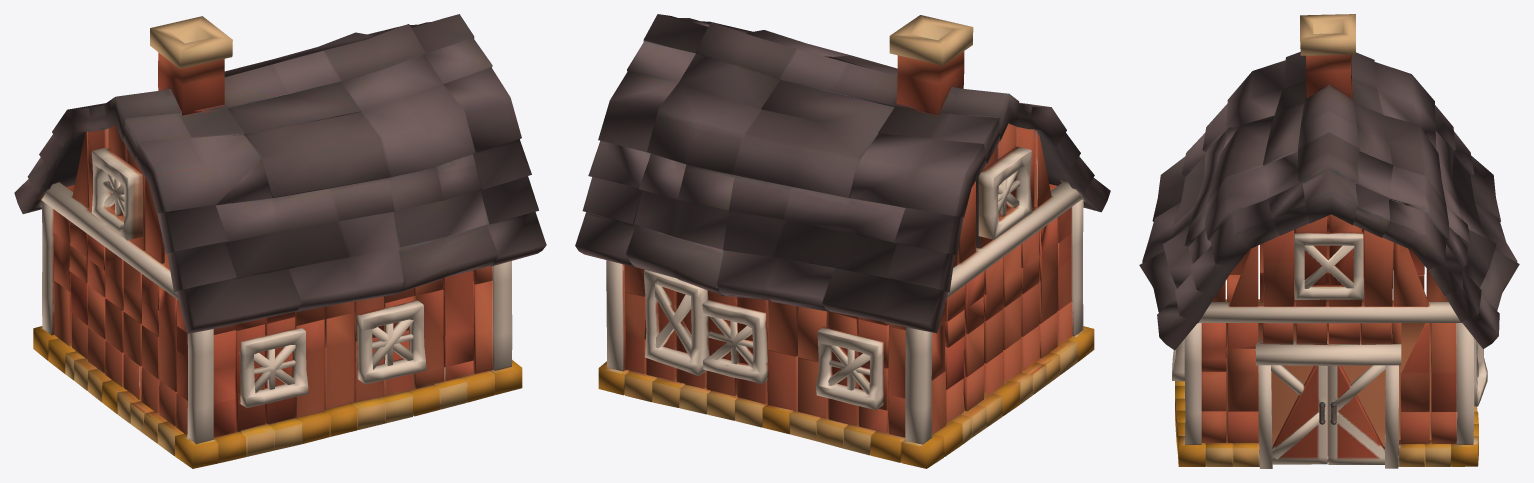
The model's file is maison-1.glb.
3 views of the same model, side by side, from view 1: azimuth 30°, elevation 25°; view 2: azimuth 150°, elevation 25°; view 3: azimuth 270°, elevation 25° (orthographic). The views are drawn at different scales.
Visible parts, largest first — view 1: tripo_node_491f8973-2946-4385-86c9-c03532fe6f2e; view 2: tripo_node_491f8973-2946-4385-86c9-c03532fe6f2e; view 3: tripo_node_491f8973-2946-4385-86c9-c03532fe6f2e.
Boxes of the visible parts, x1,y1,x2,y2 form: tripo_node_491f8973-2946-4385-86c9-c03532fe6f2e: [14, 14, 546, 468]; tripo_node_491f8973-2946-4385-86c9-c03532fe6f2e: [575, 14, 1110, 468]; tripo_node_491f8973-2946-4385-86c9-c03532fe6f2e: [1139, 14, 1519, 468].
Size of the model in its own units: 1.26 by 1.2 by 1.26.
1 material, 1 textured.
